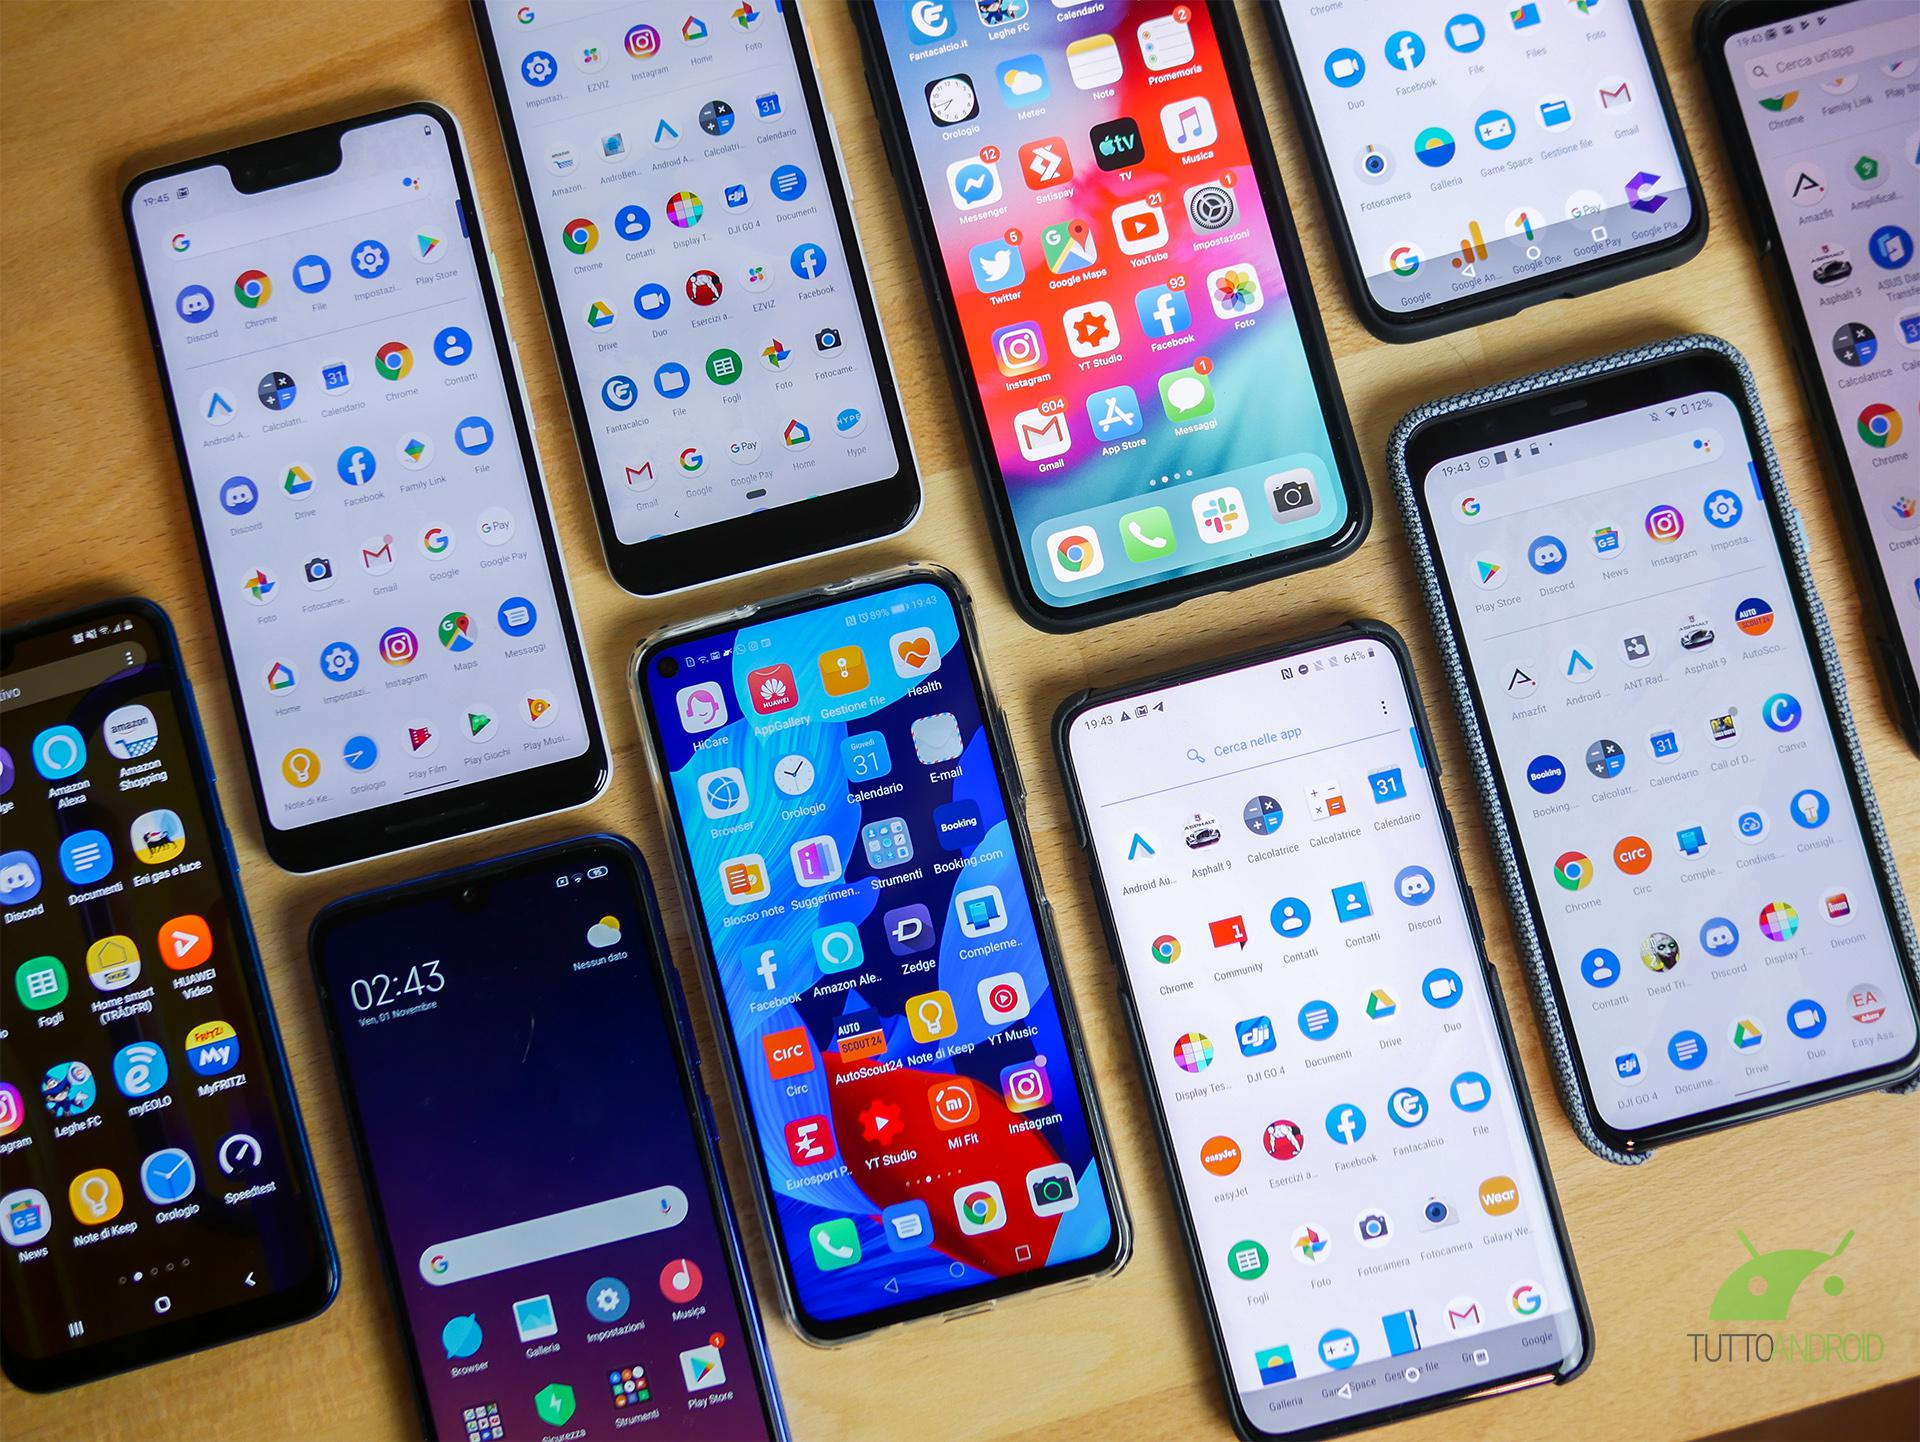Smartphone: (1363, 406, 1920, 1284), (1052, 679, 1570, 1442), (633, 542, 1105, 1344), (162, 0, 607, 832), (303, 806, 845, 1442), (459, 8, 952, 668), (872, 0, 1304, 636), (0, 560, 327, 1369), (1681, 6, 1920, 742), (1269, 0, 1669, 339)
